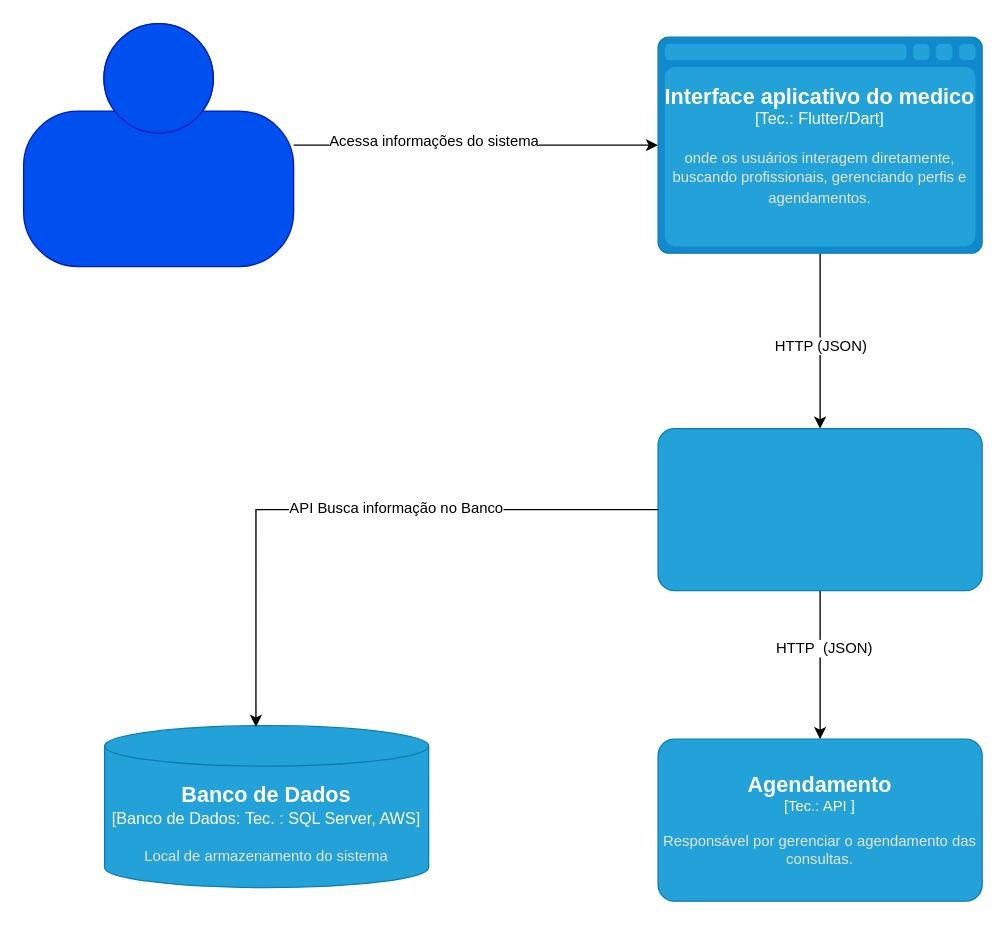
Image size: 1006x925. Some labels were removed from this diagram. The centre of each missing label's shape, as x and y in pixels:
"API de consolidação [Container: Tec: Dart, API] API de interface do Back-End" goes at pixel 819 509.
"Usuário Paciente [Persona] Usuário do Sistema" goes at pixel 158 144.
